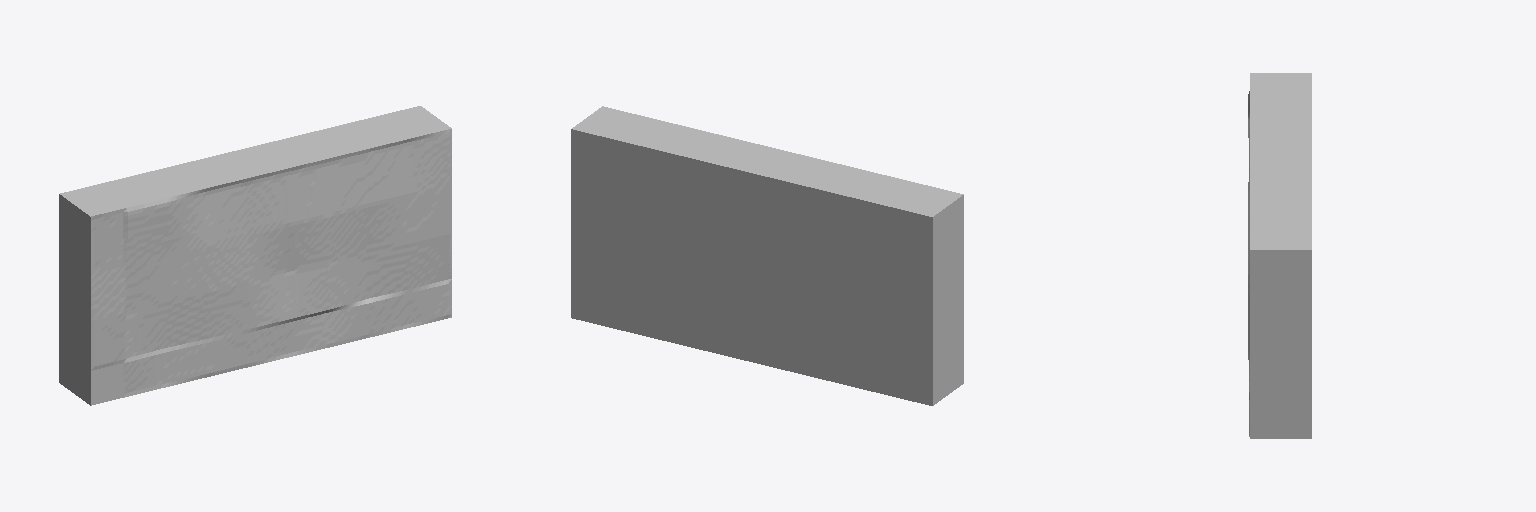
The model's file is rectangular_prism_bumps_2_5.obj.
3 renders of one model, left to right at view 1: azimuth 30°, elevation 25°; view 2: azimuth 150°, elevation 25°; view 3: azimuth 270°, elevation 25°, orthographic.
Bounding box in the file's own units: 10 × 5 × 1.54.